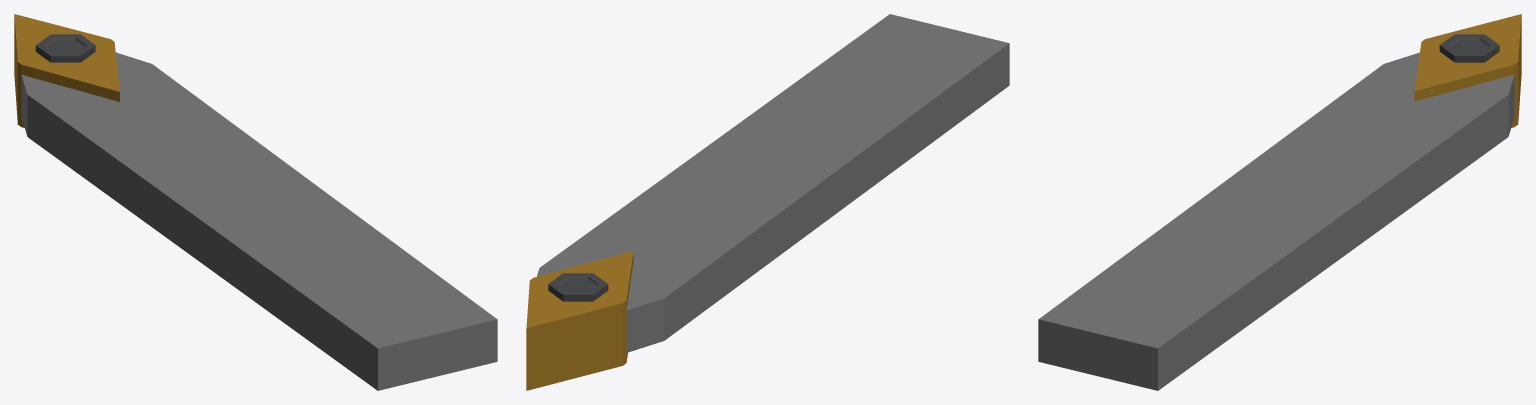
File: MCutter1.fbx
3 views of the same model, side by side, from view 1: azimuth 30°, elevation 25°; view 2: azimuth 150°, elevation 25°; view 3: azimuth 330°, elevation 25° (orthographic).
Visible parts, largest first — view 1: Cutter1; view 2: Cutter1; view 3: Cutter1.
Boxes of the visible parts, x1,y1,x2,y2 form: Cutter1: [14, 14, 497, 390]; Cutter1: [526, 14, 1009, 390]; Cutter1: [1038, 14, 1521, 390].
Bounding box in the file's own units: 33.7 × 19.51 × 198.
